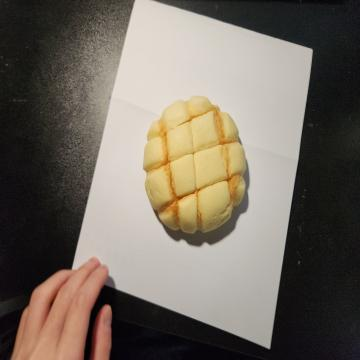melon_bread: (143, 93, 248, 235)
